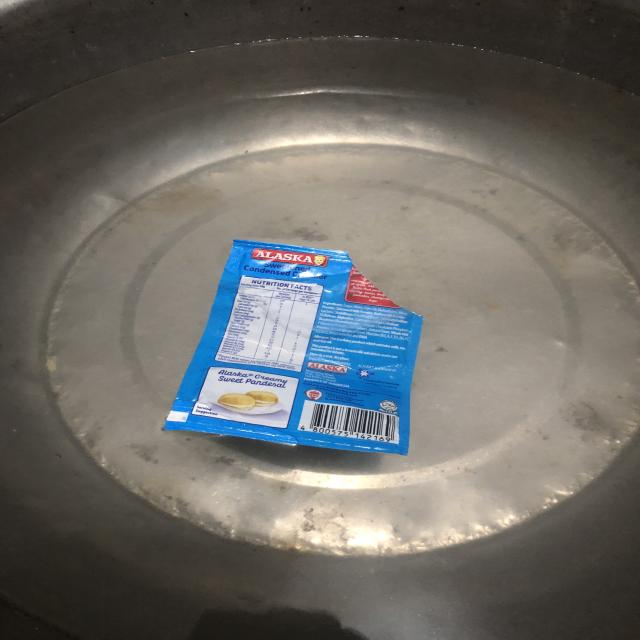Plastic Wrapper: (162, 235, 446, 459)
